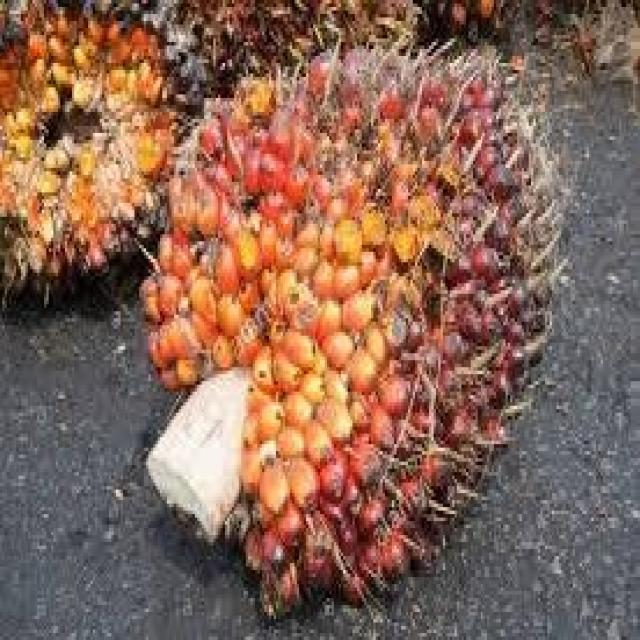Ripefruit: (140, 38, 562, 622)
